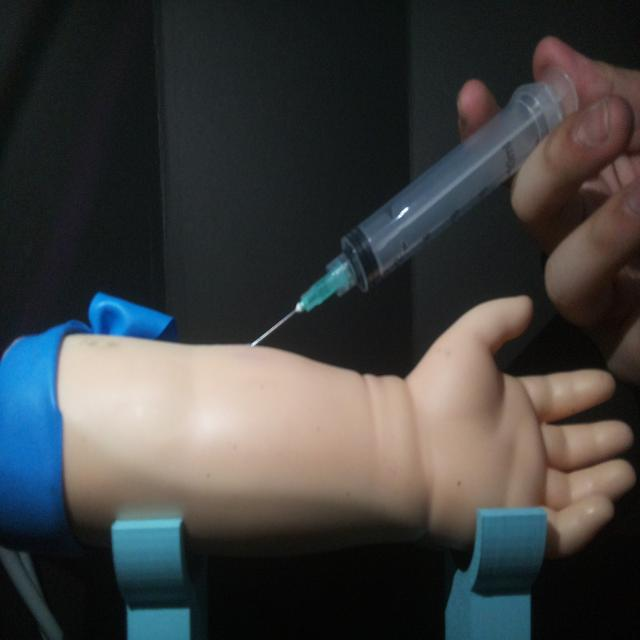28deg: (244, 61, 581, 351)
